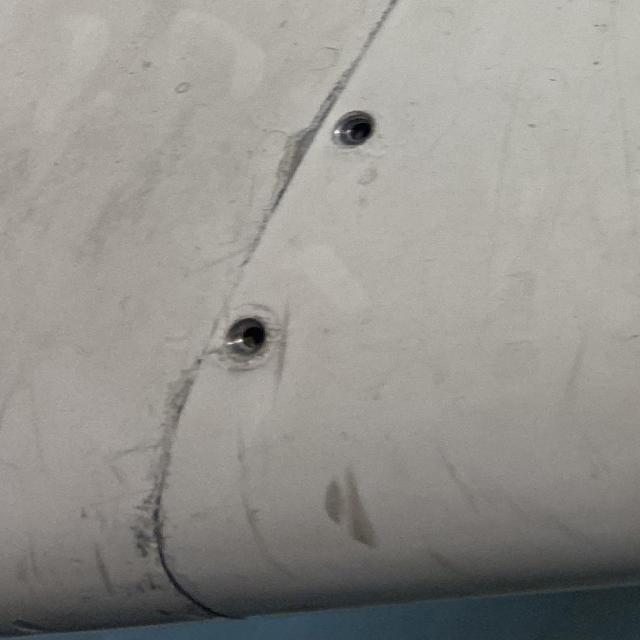Missing-head: (215, 318, 269, 366), (328, 112, 373, 149)
